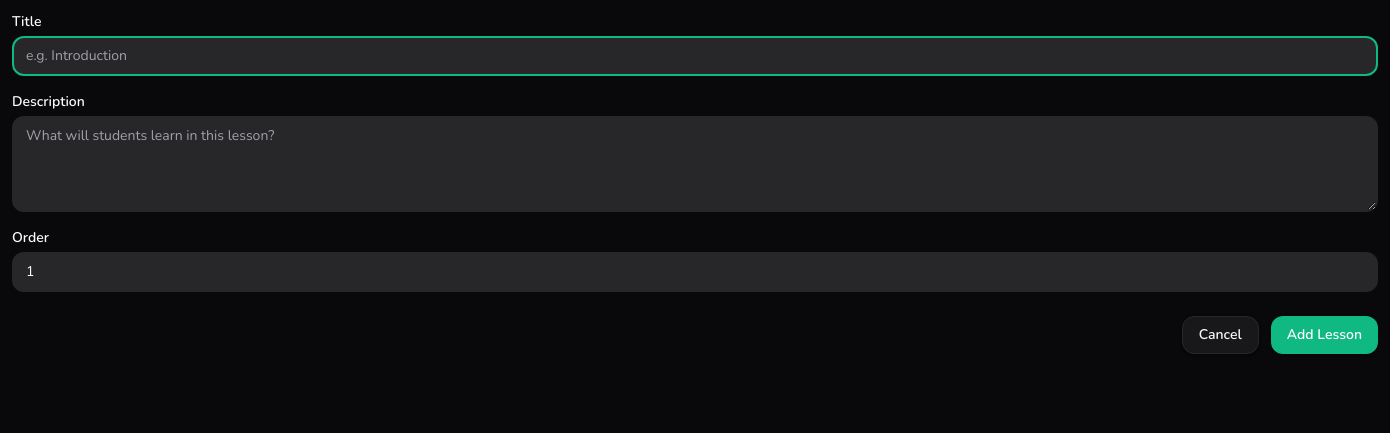
Test: LessonForm › shows description required error when title filled but description empty
Type "My Lesson" into the field labelled "Title" at (695, 56), box [12, 36, 1378, 76]
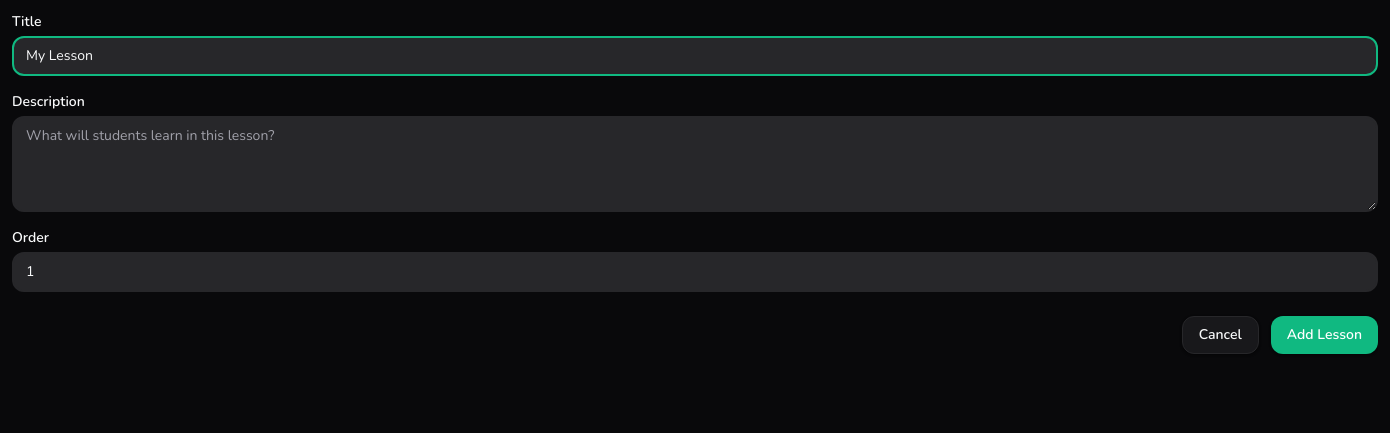
Click the button "Add Lesson" at (1324, 335), box [1271, 316, 1378, 354]
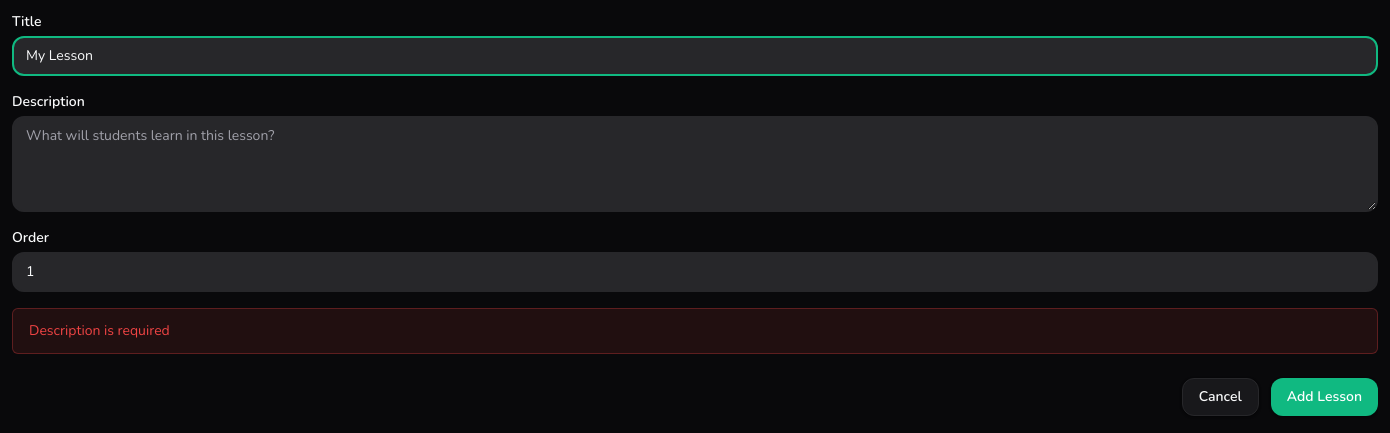
Result: the text "Description is required" is shown at [12, 308, 1378, 354]
